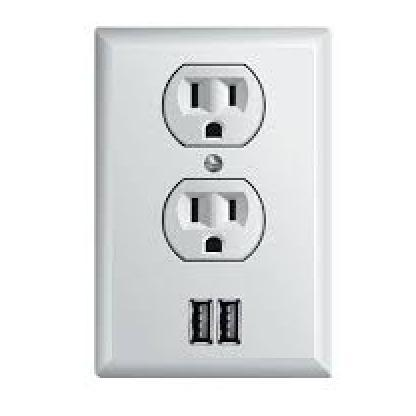OUTLET: (94, 26, 330, 376)
